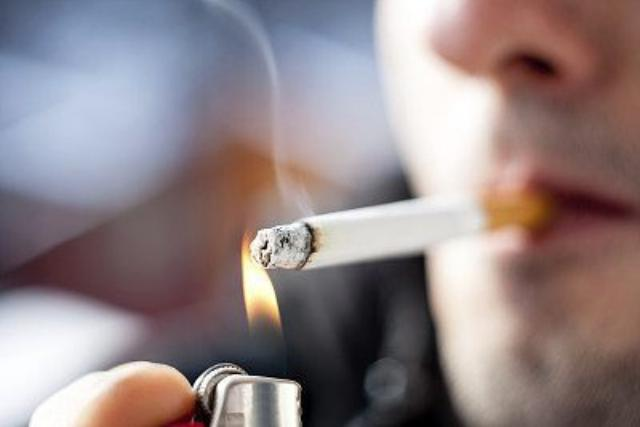Cigarette: (250, 185, 554, 276)
